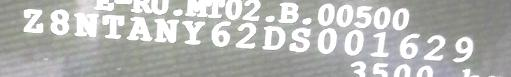letter: (153, 16, 181, 45), (260, 24, 287, 53), (126, 15, 154, 42), (422, 34, 447, 63), (314, 26, 338, 55), (101, 13, 126, 40), (234, 22, 259, 49), (288, 27, 313, 54), (21, 7, 45, 34), (181, 19, 205, 46), (451, 35, 475, 62), (209, 19, 231, 48), (398, 32, 420, 61), (48, 8, 69, 38), (73, 12, 98, 37), (342, 30, 364, 57), (370, 29, 390, 58)
